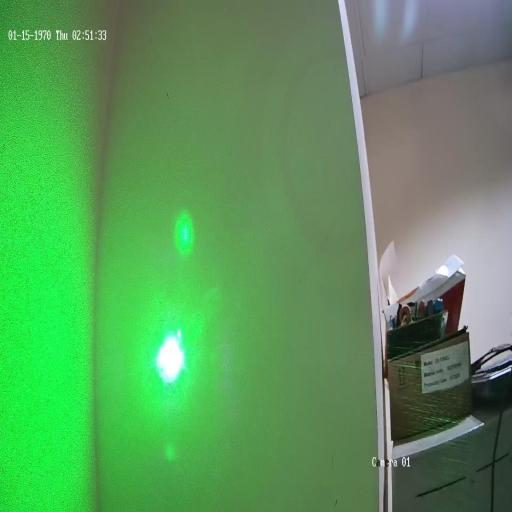laser: (145, 309, 193, 397)
